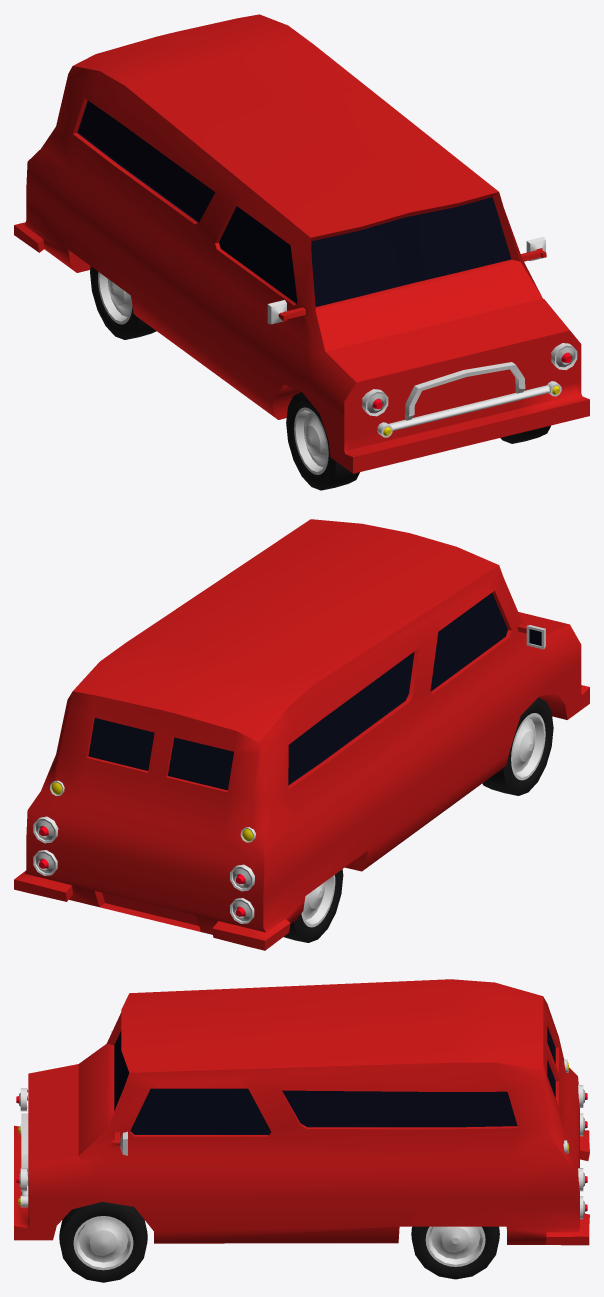
File: vehicle_8.fbx
3 renders of one model, top to bottom at view 1: azimuth 30°, elevation 25°; view 2: azimuth 150°, elevation 25°; view 3: azimuth 270°, elevation 25°, orthographic. The views are drawn at different scales.
Parts seen in each view (by area): view 1: Van, Tire_2, Tire_4; view 2: Van, Tire_2, Tire_4; view 3: Van, Tire_1, Tire_3.
Part boxes in pixels (bbox=[...]): Van: bbox=[14, 14, 589, 473]; Tire_2: bbox=[286, 392, 359, 490]; Tire_4: bbox=[90, 266, 156, 339]; Van: bbox=[14, 519, 589, 950]; Tire_2: bbox=[482, 697, 553, 795]; Tire_4: bbox=[284, 869, 343, 942]; Van: bbox=[14, 979, 589, 1245]; Tire_1: bbox=[59, 1201, 147, 1282]; Tire_3: bbox=[411, 1226, 499, 1279].
Bounding box in the file's own units: 219 × 192 × 456.
